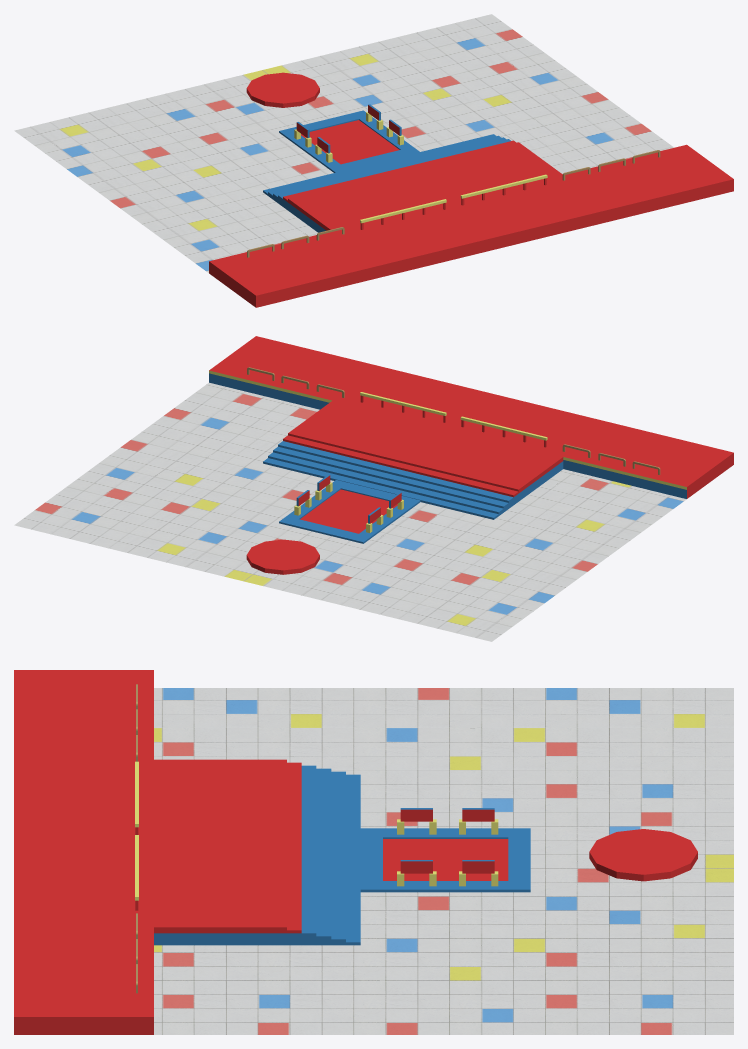
File: san10.fbx
3 renders of one model, top to bottom at view 1: azimuth 30°, elevation 25°; view 2: azimuth 150°, elevation 25°; view 3: azimuth 270°, elevation 25°, orthographic. The views are drawn at different scales.
Parts seen in each view (by area): view 1: Plane.009; view 2: Plane.009; view 3: Plane.009.
Part boxes in pixels (left/top/right/bottom): Plane.009: left=14, top=14, right=733, bottom=307; Plane.009: left=14, top=336, right=733, bottom=641; Plane.009: left=14, top=670, right=733, bottom=1034.
Size of the model in its own units: 7376 by 319 by 6472.
5 materials, 1 textured.
